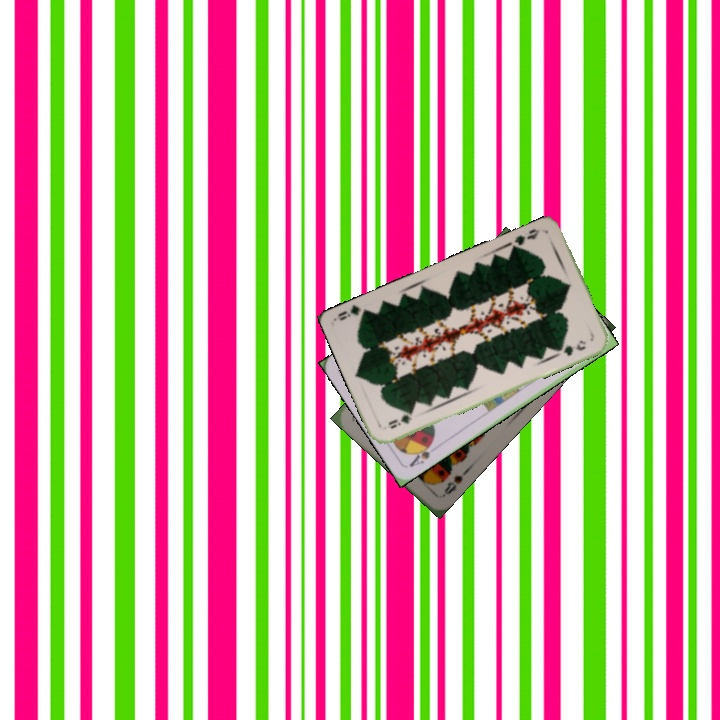G9: (509, 225, 542, 252), (384, 408, 416, 431)
S8: (438, 471, 465, 500)
SA: (405, 437, 436, 470)
